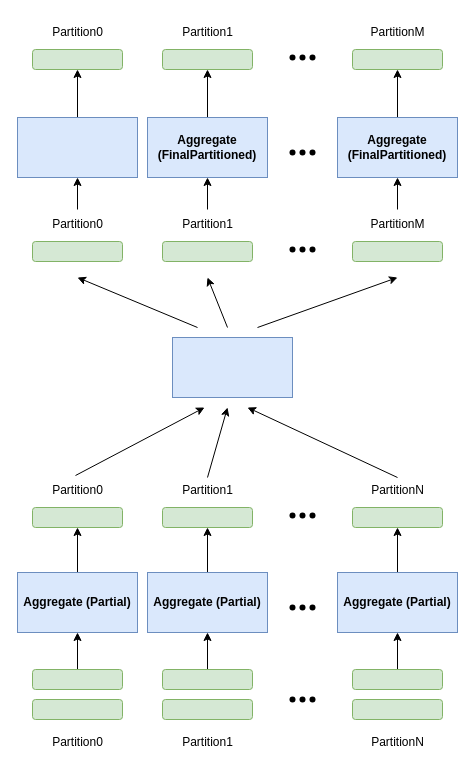
This 475x774 diagram has some shape labels left out. Here are the shapes that lost their labels. From the top down, the centre of each, then its label:
the point at 77,147: Aggregate (FinalPartitioned)
the point at 232,367: Repartition Hash(group key)
